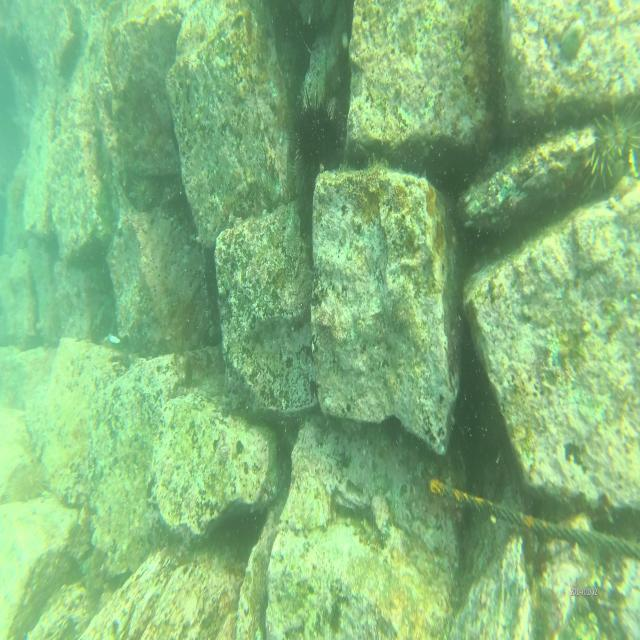echinus: (591, 91, 640, 198), (293, 88, 342, 166), (127, 170, 163, 216)
